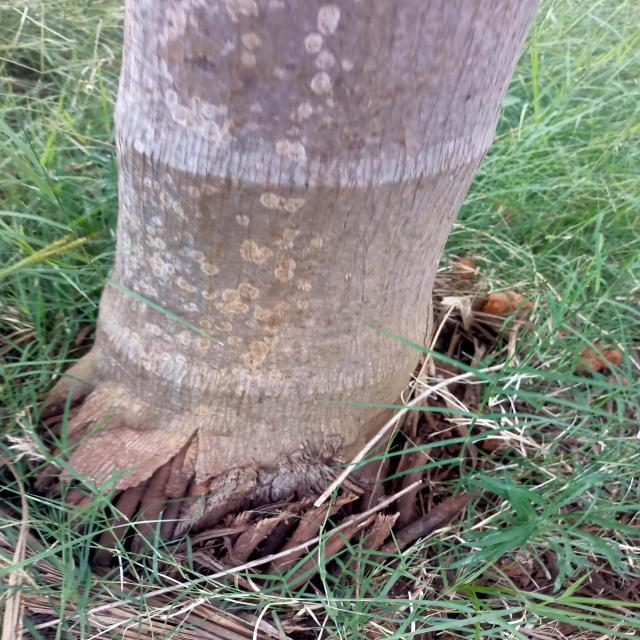Healthy_Foot: (80, 190, 490, 574)
